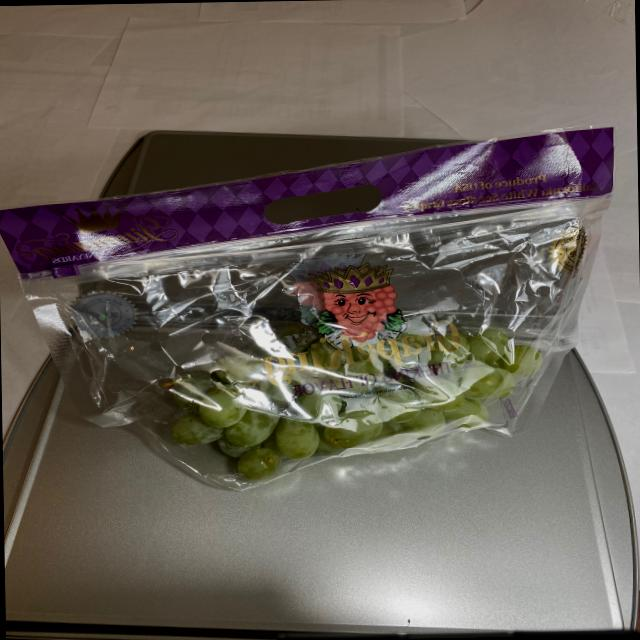grapes: (159, 332, 549, 471)
